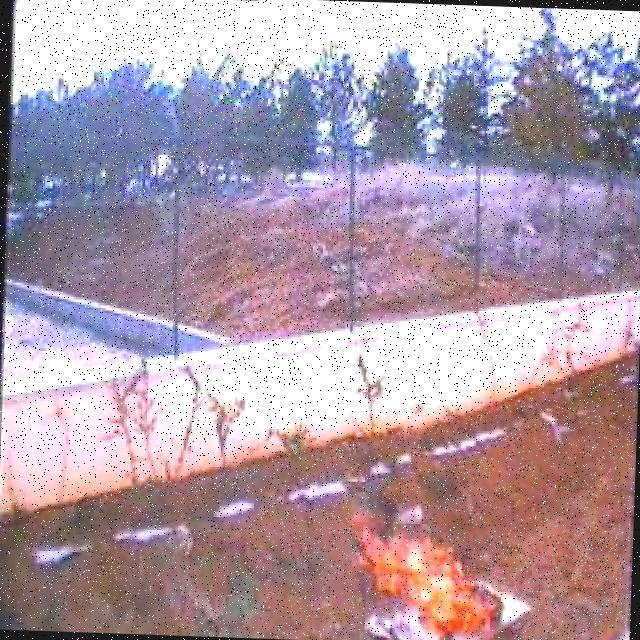Fire: (338, 497, 509, 640)
